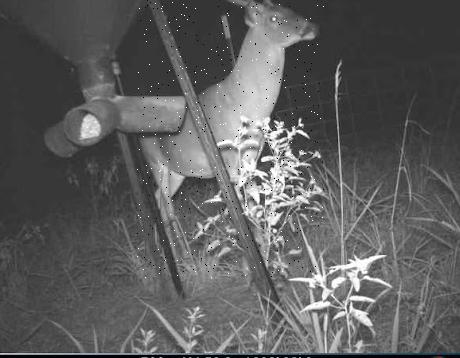Deer: (137, 0, 324, 278)
